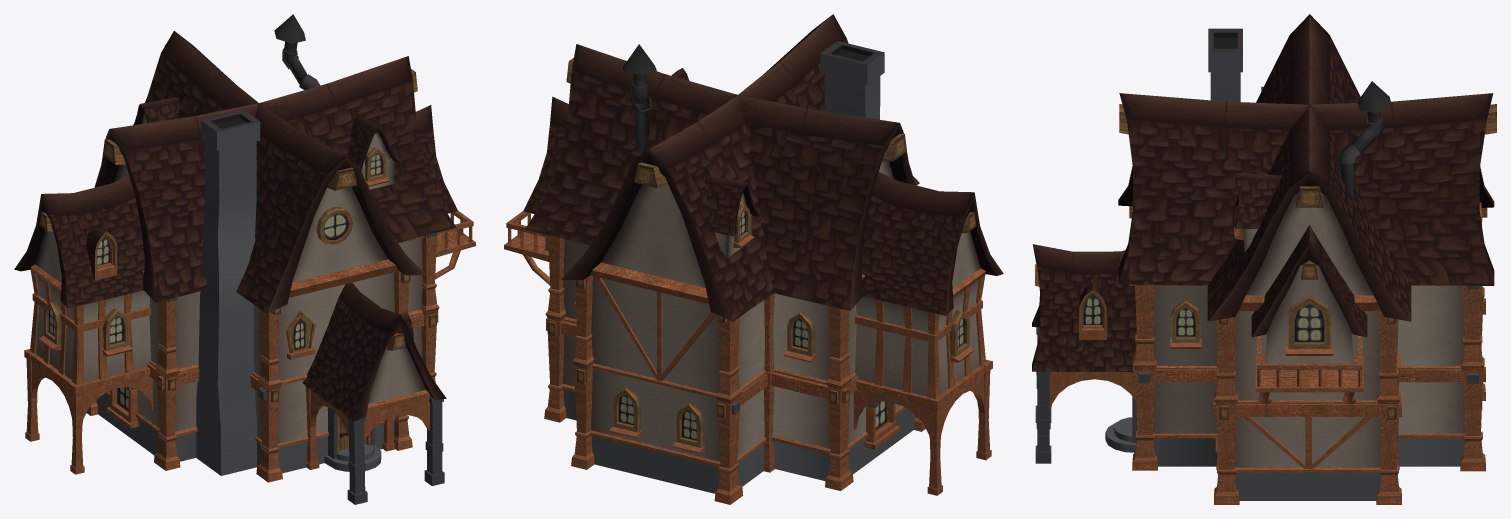
File: fanasty_mod_village_building15.fbx
3 views of the same model, side by side, from view 1: azimuth 30°, elevation 25°; view 2: azimuth 150°, elevation 25°; view 3: azimuth 270°, elevation 25° (orthographic). The views are drawn at different scales.
Visible parts, largest first — view 1: village_building_015; view 2: village_building_015; view 3: village_building_015.
Boxes of the visible parts, x1,y1,x2,y2 form: village_building_015: (14,14,475,504); village_building_015: (504,14,1003,504); village_building_015: (1032,14,1496,504).
Size of the model in its own units: 17.14 by 14.15 by 15.48.
